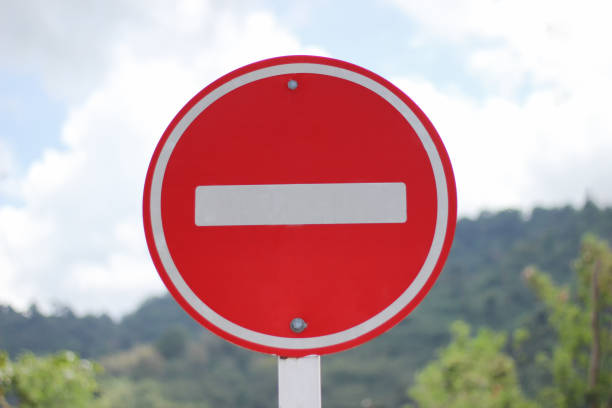Girilmez: (143, 53, 457, 354)
